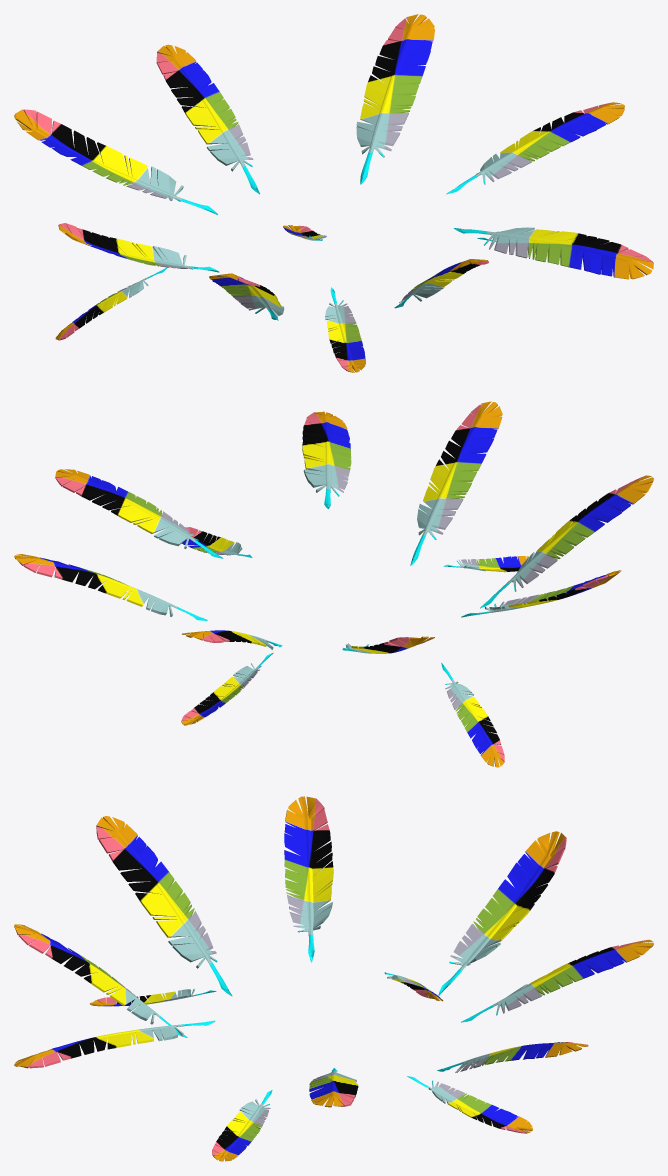
File: plume.obj
The picture shows the model from 3 angles, top to bottom: view 1: azimuth 30°, elevation 25°; view 2: azimuth 150°, elevation 25°; view 3: azimuth 270°, elevation 25°; orthographic projection. The views are drawn at different scales.
Visible parts, largest first — view 1: pCylinder2_Mesh; view 2: pCylinder2_Mesh; view 3: pCylinder2_Mesh.
Part boxes in pixels (x1,y1,x2,y2): pCylinder2_Mesh: [14, 14, 653, 372]; pCylinder2_Mesh: [14, 401, 653, 767]; pCylinder2_Mesh: [14, 796, 653, 1161].
Bounding box in the file's own units: 2.13 × 0.6454 × 2.02.
